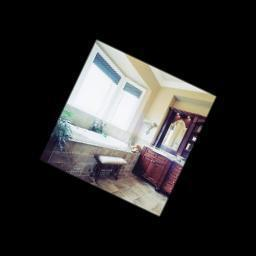Lavamanos: (152, 144, 173, 160)
